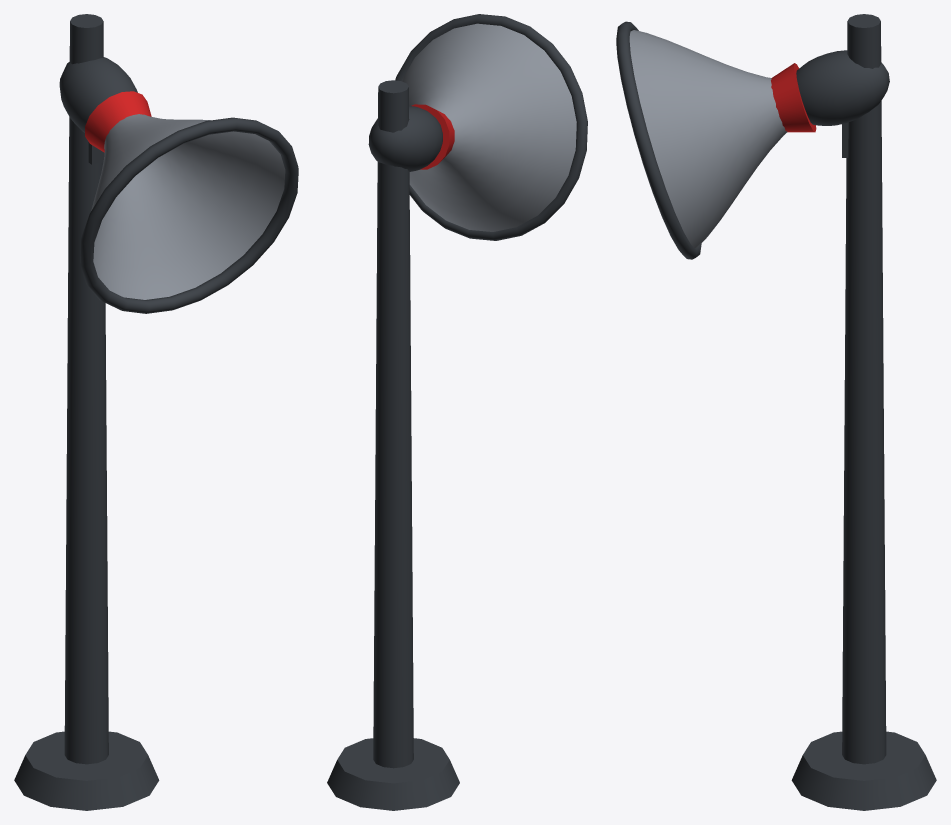
File: loudspeaker.glb
3 renders of one model, left to right at view 1: azimuth 30°, elevation 25°; view 2: azimuth 150°, elevation 25°; view 3: azimuth 270°, elevation 25°, orthographic. The views are drawn at different scales.
Parts seen in each view (by area): view 1: loudspeaker; view 2: loudspeaker; view 3: loudspeaker.
Part boxes in pixels (x1=…): loudspeaker: x1=14, y1=14, x2=298, y2=810; loudspeaker: x1=327, y1=14, x2=587, y2=810; loudspeaker: x1=616, y1=14, x2=936, y2=810.
Size of the model in its own units: 0.89 by 3 by 1.15.
